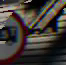Heavy Vehicles: (0, 7, 30, 63)
